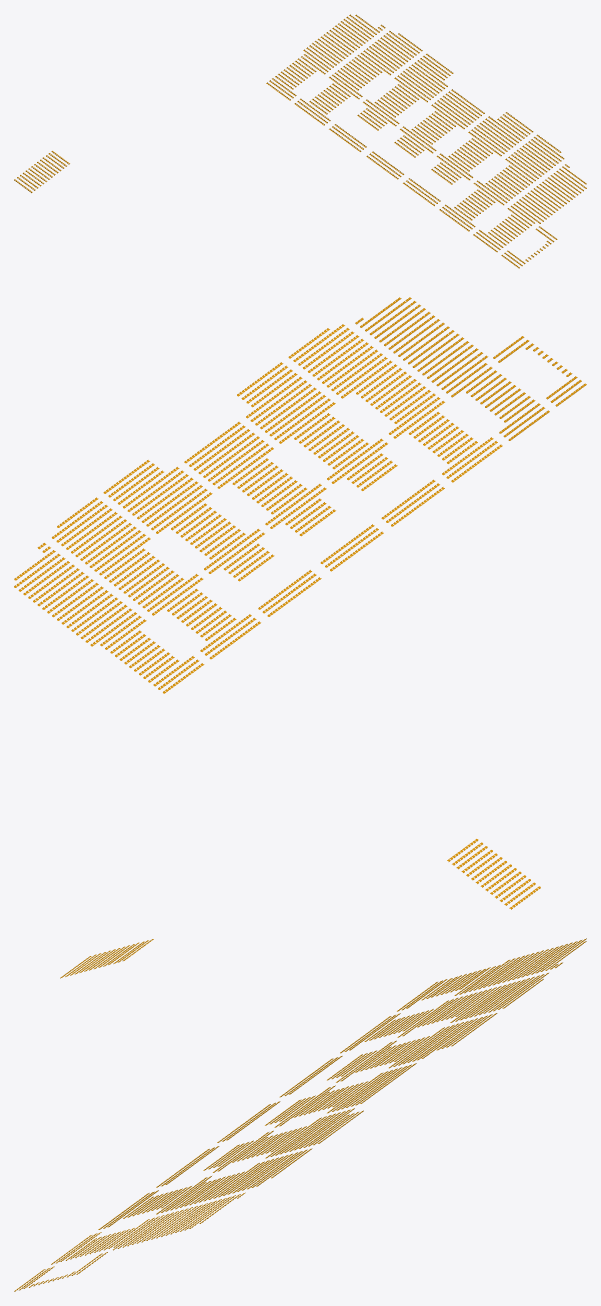
The model's file is ArquibancadaCadeiras.FBX.
The picture shows the model from 3 angles, top to bottom: view 1: azimuth 30°, elevation 25°; view 2: azimuth 150°, elevation 25°; view 3: azimuth 330°, elevation 25°; orthographic projection. The views are drawn at different scales.
Visible parts, largest first — view 1: Cadeiras03, Cadeiras07, Cadeiras04, Cadeiras06, Cadeiras08, Cadeiras02, Cadeiras05, Cadeiras09; view 2: Cadeiras03, Cadeiras07, Cadeiras04, Cadeiras06, Cadeiras08, Cadeiras02, Cadeiras05, Cadeiras09; view 3: Cadeiras07, Cadeiras03, Cadeiras06, Cadeiras04, Cadeiras08, Cadeiras02, Cadeiras05, Cadeiras09.
Boxes of the visible parts, x1,y1,x2,y2 form: Cadeiras03: (439, 134, 564, 231); Cadeiras07: (294, 31, 422, 125); Cadeiras04: (403, 112, 533, 206); Cadeiras06: (329, 54, 453, 151); Cadeiras08: (266, 14, 385, 100); Cadeiras02: (473, 164, 586, 252); Cadeiras05: (366, 89, 484, 179); Cadeiras09: (14, 151, 69, 192); Cadeiras03: (288, 324, 502, 482); Cadeiras07: (52, 497, 260, 659); Cadeiras04: (237, 362, 444, 526); Cadeiras06: (103, 460, 321, 616); Cadeiras08: (14, 543, 204, 693); Cadeiras02: (355, 297, 549, 440); Cadeiras05: (184, 422, 383, 571); Cadeiras09: (447, 839, 540, 909); Cadeiras07: (340, 973, 548, 1053); Cadeiras03: (98, 1148, 312, 1229); Cadeiras06: (279, 1013, 497, 1097); Cadeiras04: (156, 1108, 363, 1187); Cadeiras08: (397, 938, 586, 1011); Cadeiras02: (51, 1192, 245, 1264); Cadeiras05: (217, 1063, 416, 1142); Cadeiras09: (60, 939, 153, 978).
Bounding box in the file's own units: 77.51 × 24.45 × 113.
